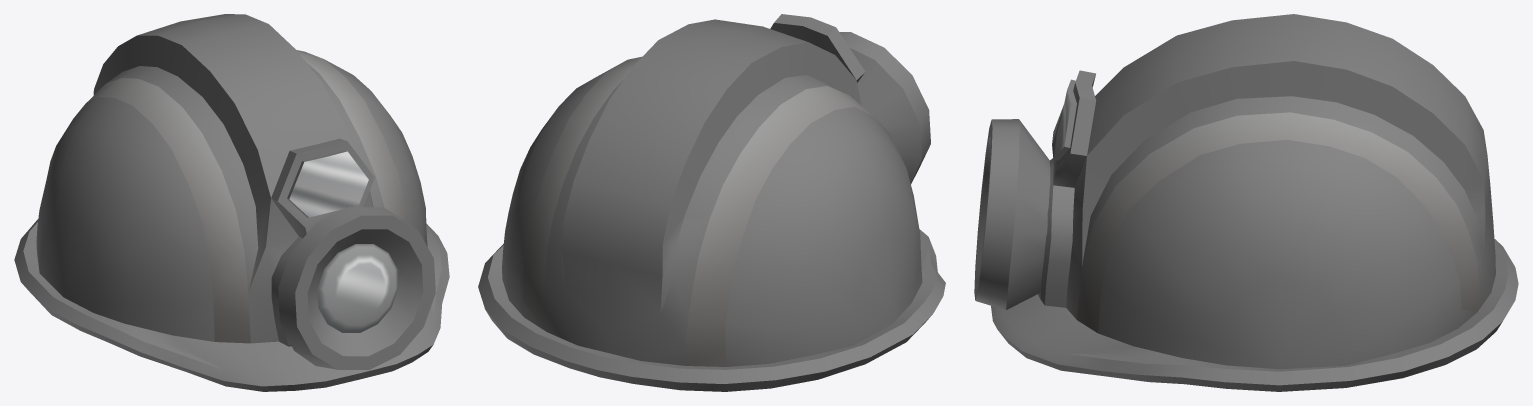
File: Helmet_Miner.fbx
3 renders of one model, left to right at view 1: azimuth 30°, elevation 25°; view 2: azimuth 150°, elevation 25°; view 3: azimuth 270°, elevation 25°, orthographic. The views are drawn at different scales.
Parts seen in each view (by area): view 1: Miner_Hat; view 2: Miner_Hat; view 3: Miner_Hat.
Boxes of the visible parts, x1,y1,x2,y2 form: Miner_Hat: (14,14,449,391); Miner_Hat: (478,14,945,391); Miner_Hat: (974,14,1518,391).
Size of the model in its own units: 39.9 by 27.07 by 45.27.
2 materials, 1 textured.
